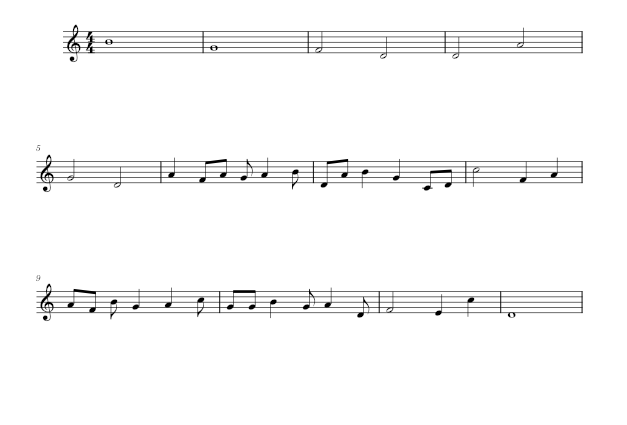Treble Clef: (38, 281, 58, 326), (63, 22, 83, 64), (38, 153, 57, 195)
